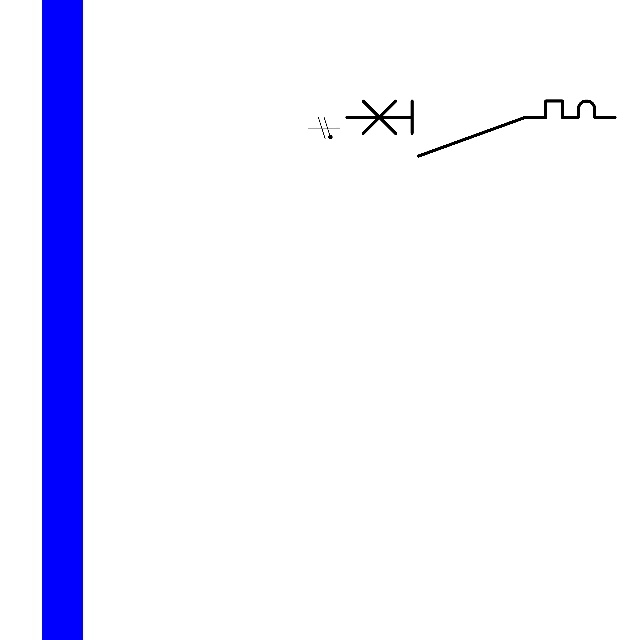interruptor_termomagnetico: (339, 94, 621, 163)
